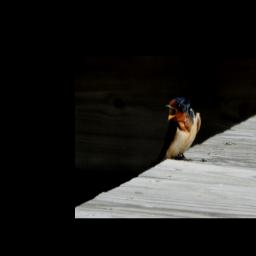Swallow: (159, 95, 202, 161)
